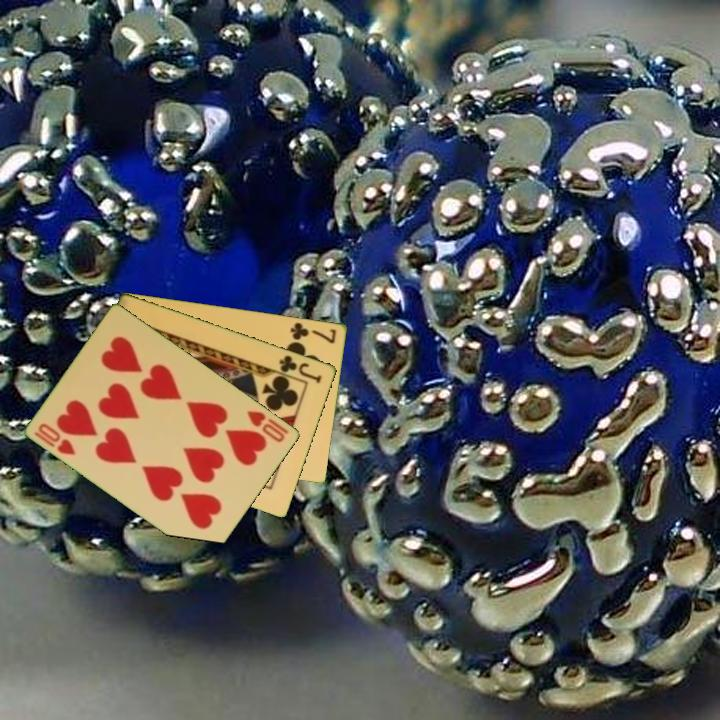10h: (31, 419, 79, 458), (244, 407, 292, 445)
7c: (287, 319, 339, 346)
Jc: (276, 351, 325, 386)
